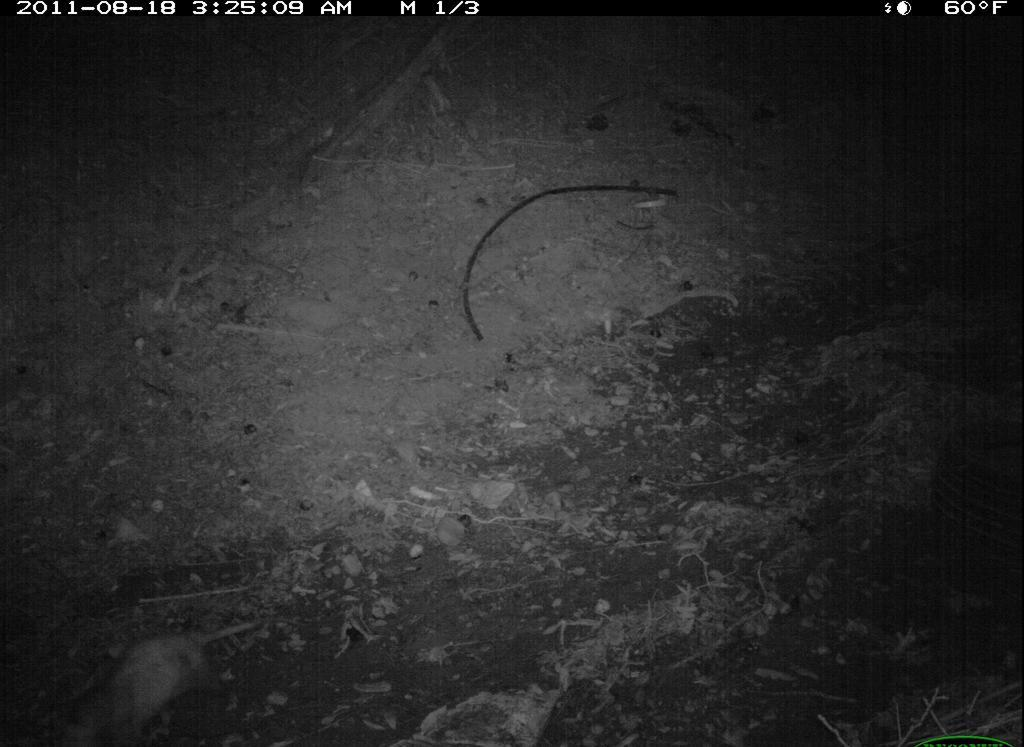opossum: (65, 607, 322, 740)
